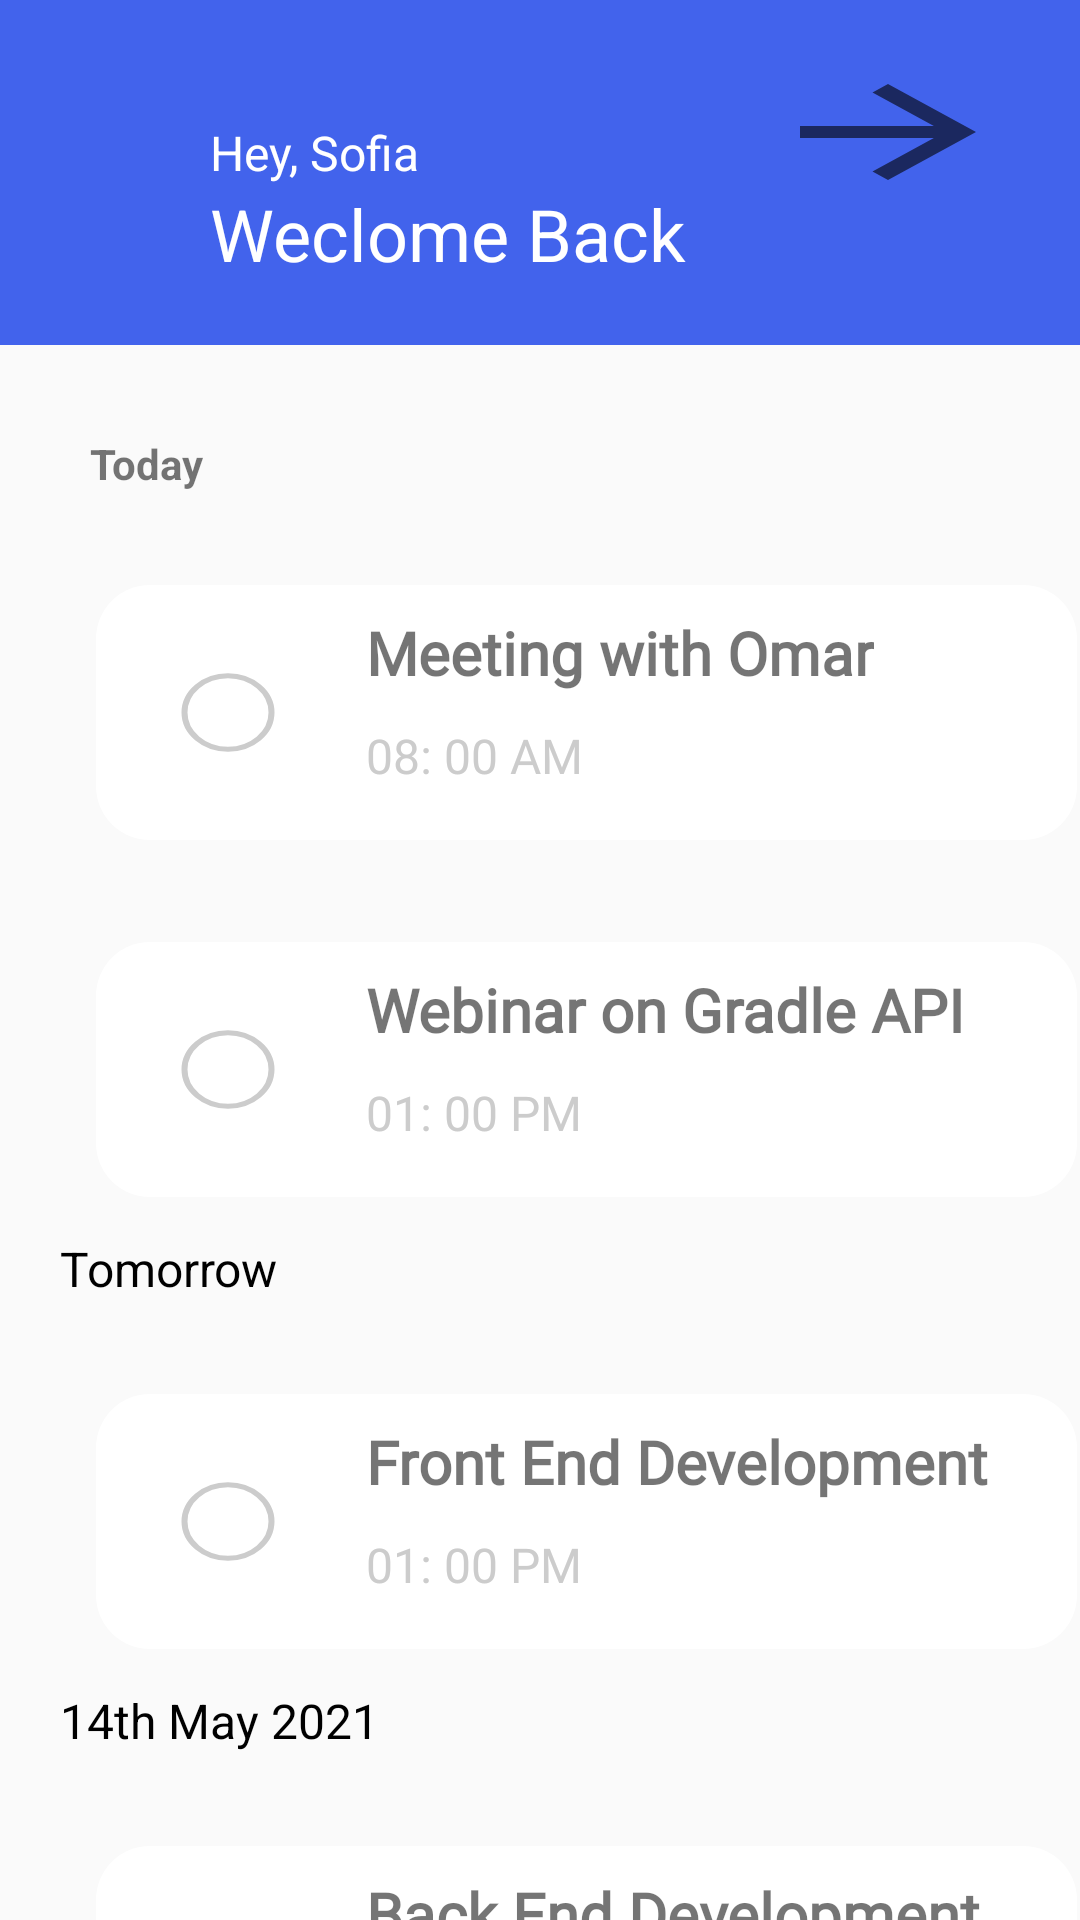

Icon bounding boxes for this 1080px×1920px phone screenshot, format bbox=(x1, y1, x2, y2):
arrow forward: bbox=(800, 84, 976, 180)
